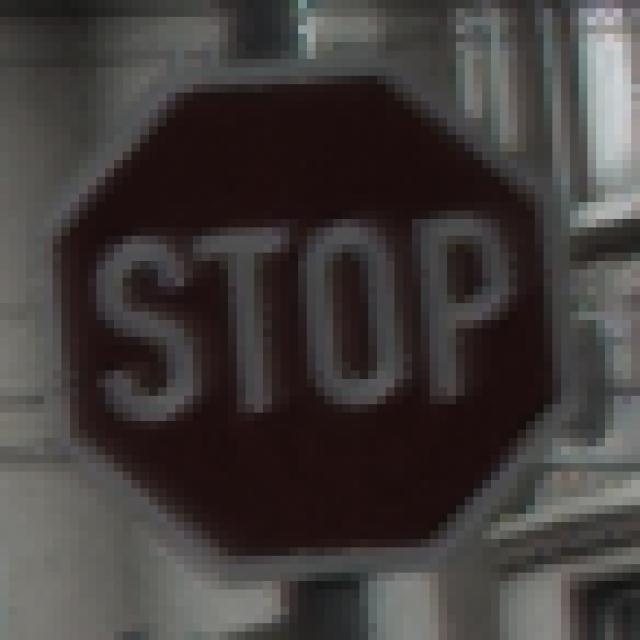STOP: (54, 52, 589, 582)
